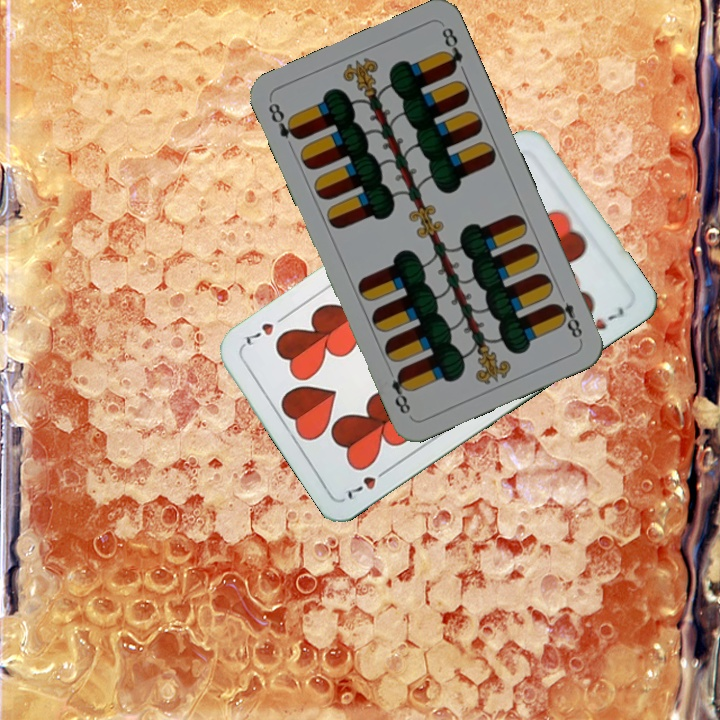E8: (549, 287, 585, 344), (264, 98, 303, 143)
H7: (340, 463, 393, 503)
